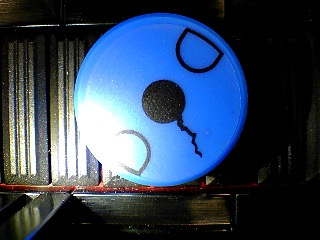CRACK: (74, 12, 248, 187)
